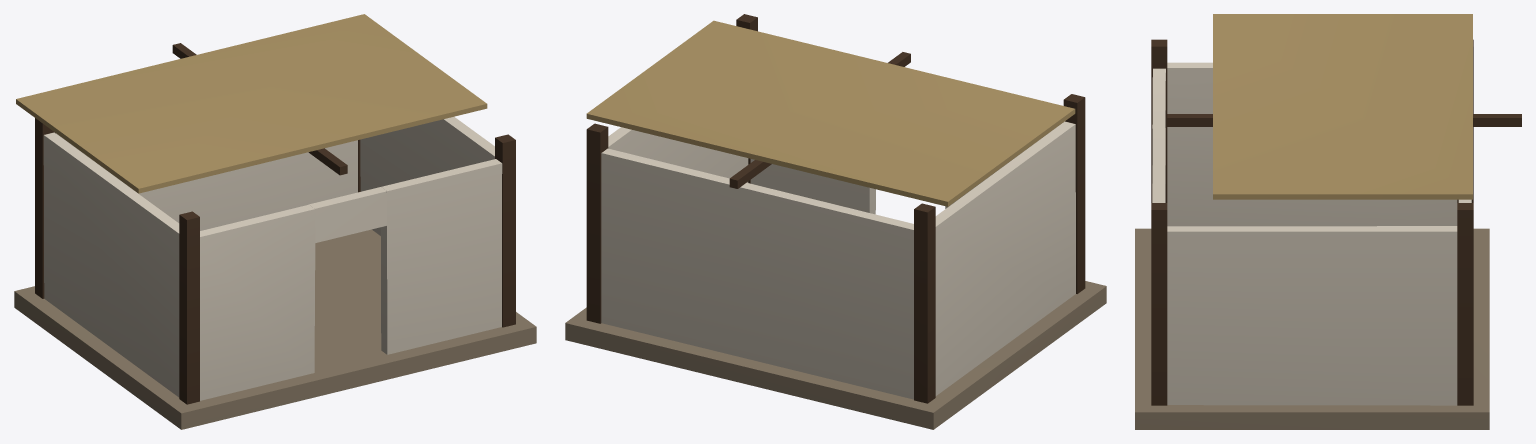
File: caral_house_common_lod1.glb
The picture shows the model from 3 angles, left to right: view 1: azimuth 30°, elevation 25°; view 2: azimuth 150°, elevation 25°; view 3: azimuth 270°, elevation 25°; orthographic projection. The views are drawn at different scales.
Parts seen in each view (by area): view 1: GEO-Arch_house_common_LOD1; view 2: GEO-Arch_house_common_LOD1; view 3: GEO-Arch_house_common_LOD1.
Part boxes in pixels (x1,y1,x2,y2): GEO-Arch_house_common_LOD1: (14, 14, 536, 429); GEO-Arch_house_common_LOD1: (565, 14, 1106, 429); GEO-Arch_house_common_LOD1: (1135, 14, 1521, 429).
Bounding box in the file's own units: 5.49 × 3.14 × 4.8.
